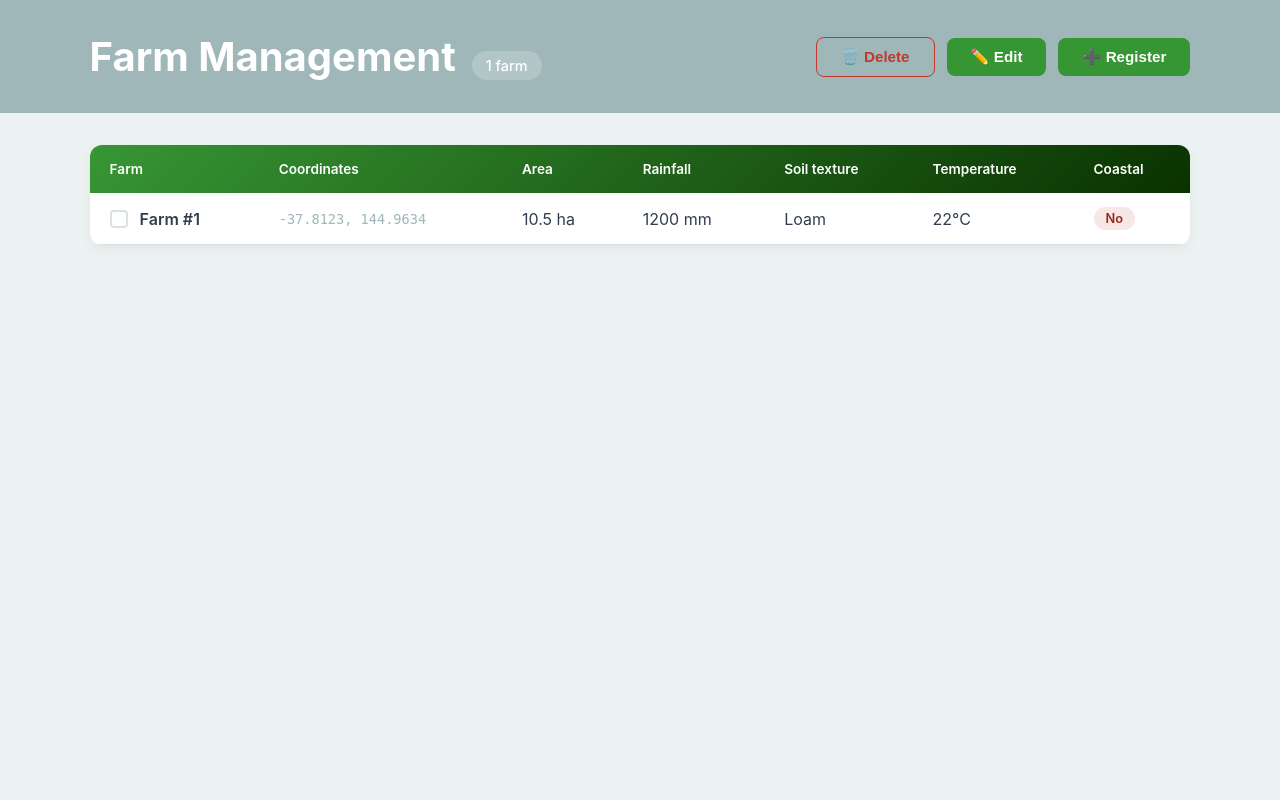
Test: FarmsManagmentPage › opens the register modal when Register button is clicked
Click the button "➕ Register" at (1124, 56), box [1058,38,1190,76]
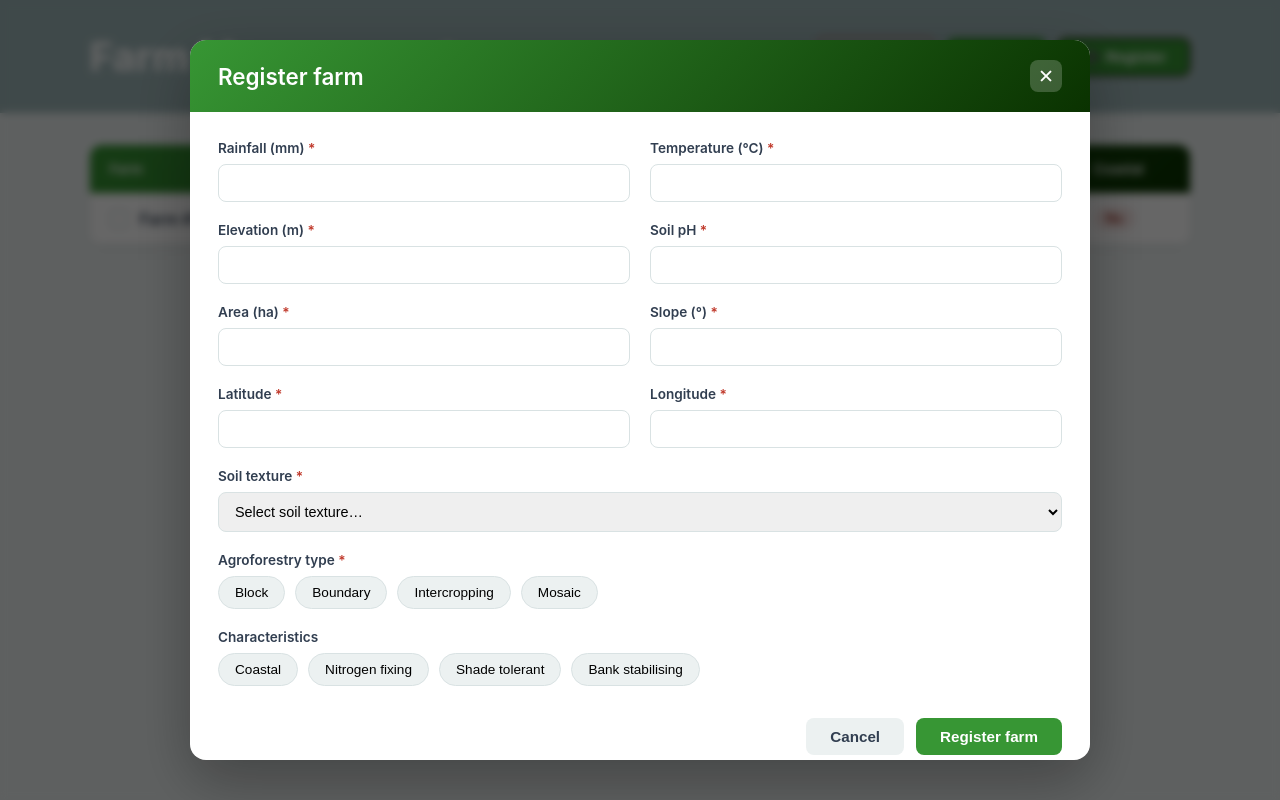
Expected: the heading "Register farm" is shown, [218,62,364,90]
